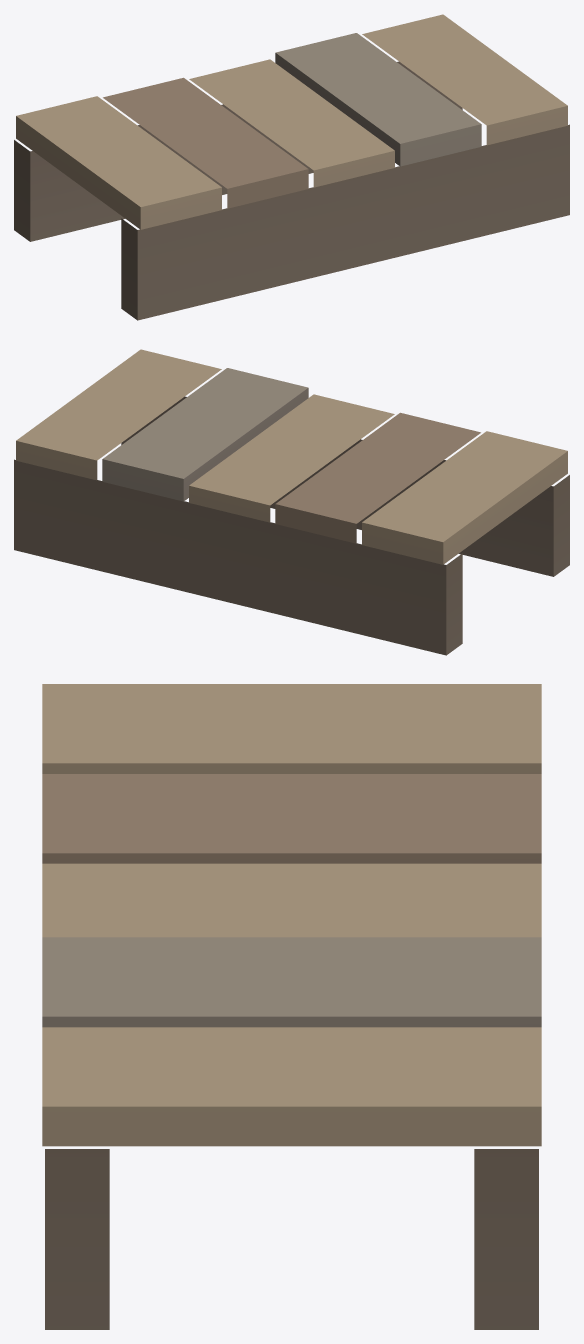
Rendered from walk.glb.
The picture shows the model from 3 angles, top to bottom: view 1: azimuth 30°, elevation 25°; view 2: azimuth 150°, elevation 25°; view 3: azimuth 270°, elevation 25°; orthographic projection. The views are drawn at different scales.
Size of the model in its own units: 2 by 0.5 by 1.
